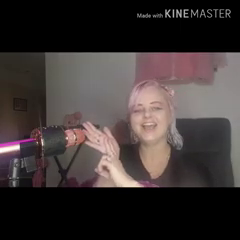N: (82, 118, 138, 185)
